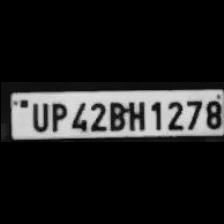1: (146, 98, 162, 130)
2: (163, 98, 185, 130), (87, 98, 105, 132)
4: (68, 98, 88, 132)
7: (182, 97, 200, 130)
8: (202, 97, 222, 129)
B: (105, 98, 124, 130)
H: (126, 98, 146, 132)
P: (46, 100, 66, 132)
U: (27, 100, 47, 132)
